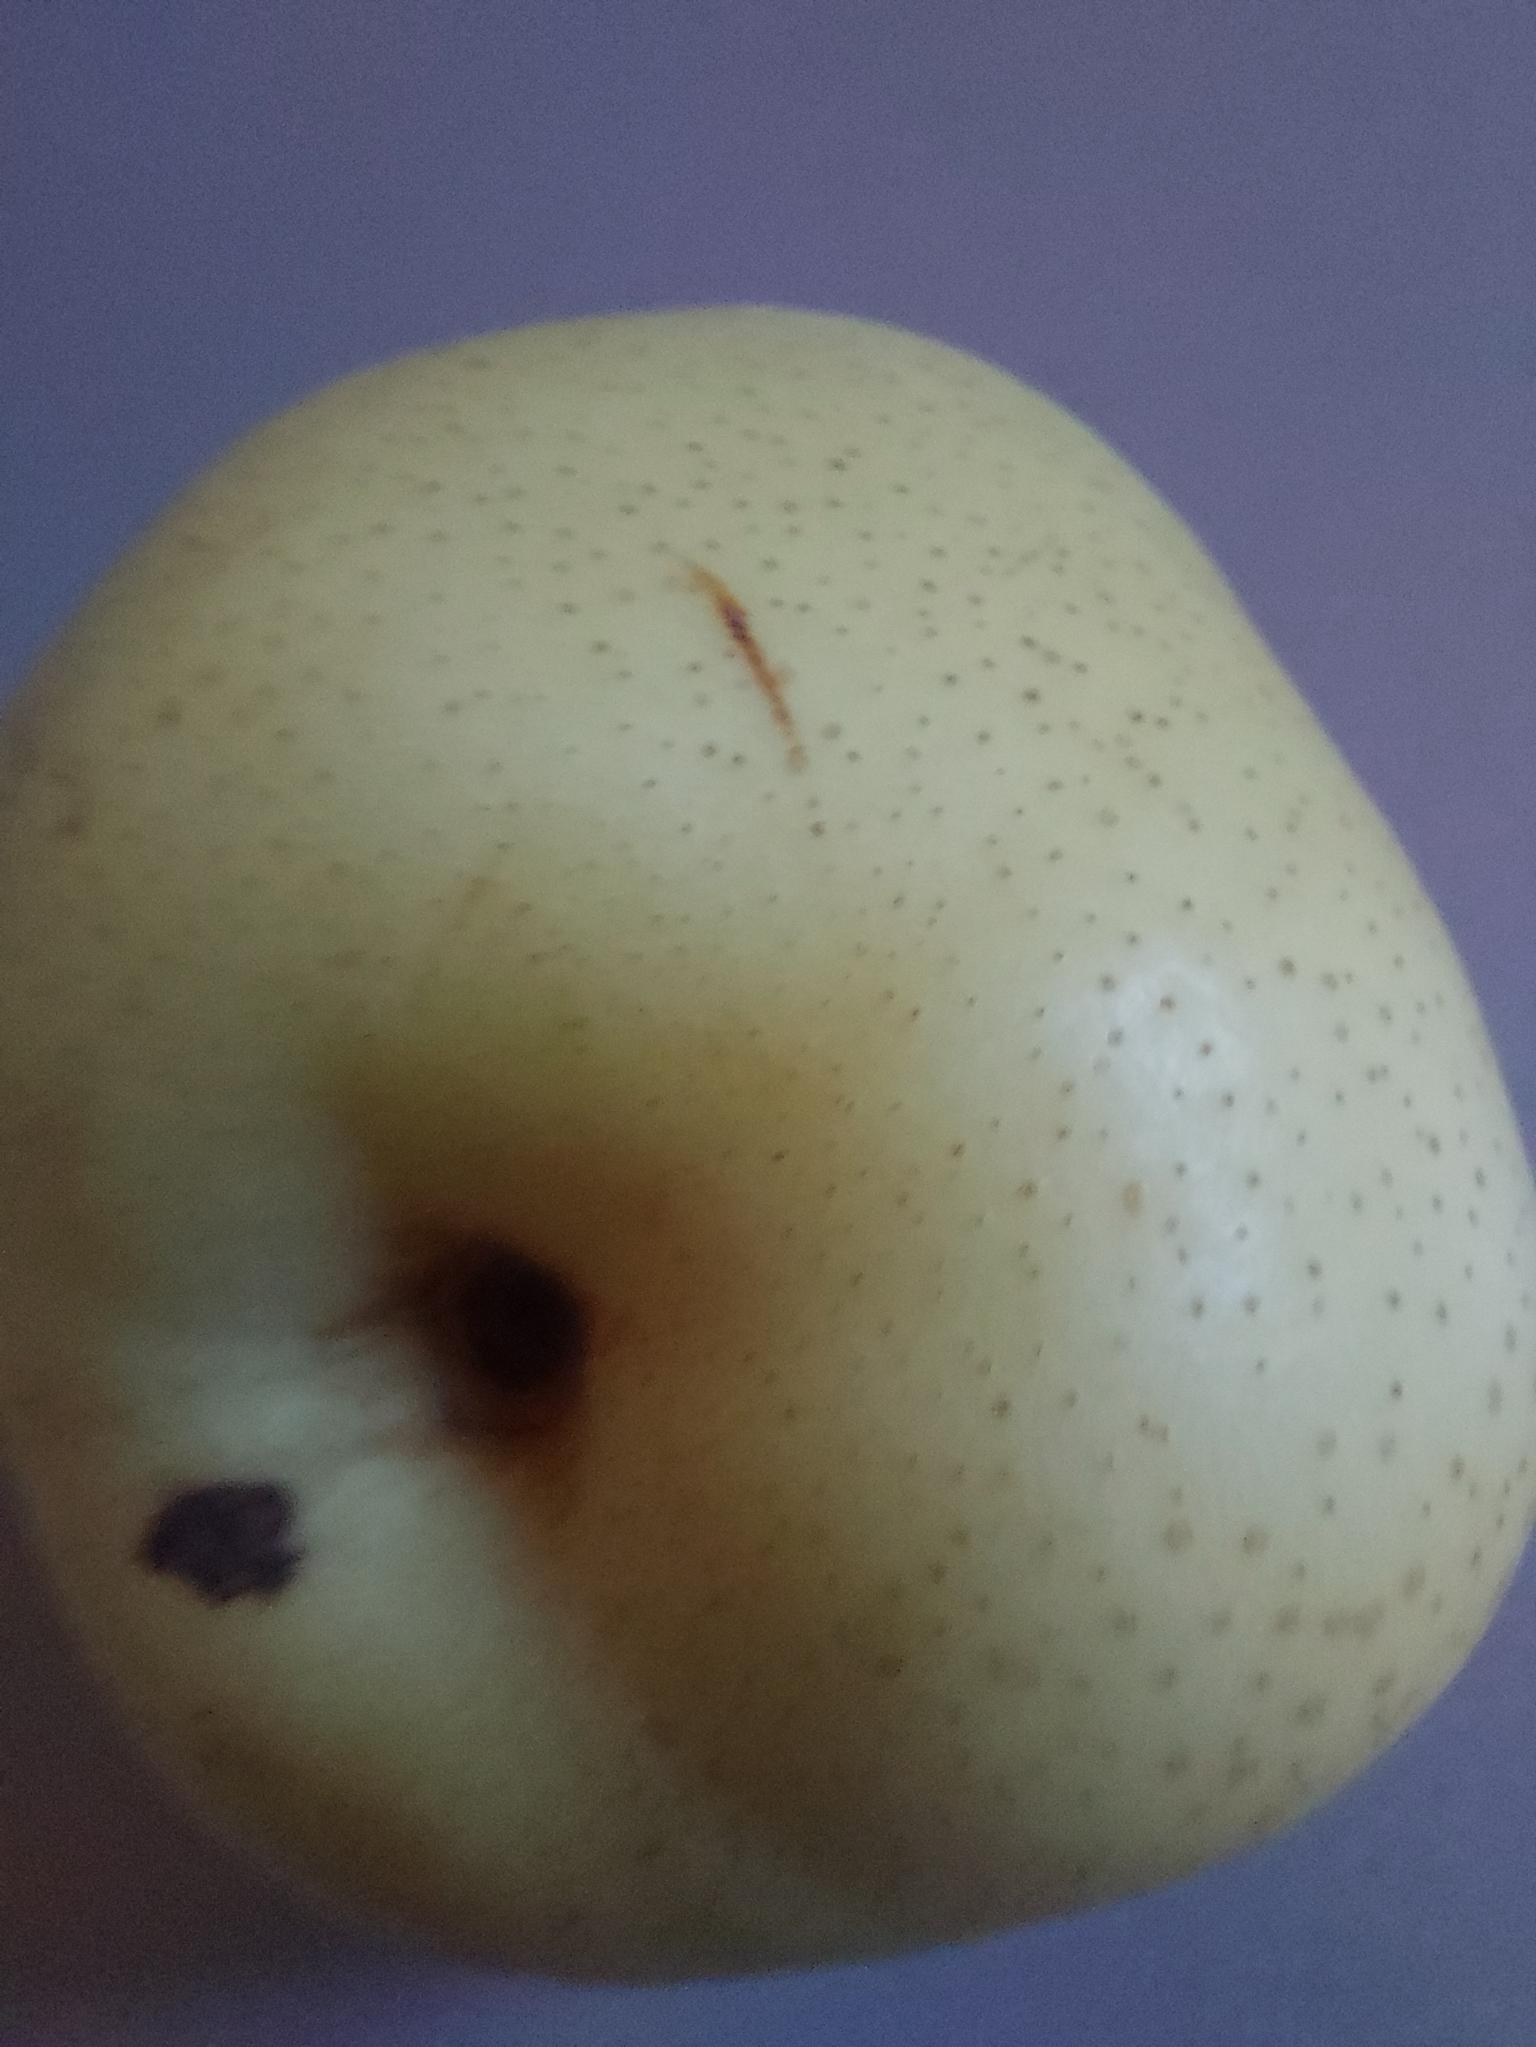Good Pear: (0, 244, 1536, 1995)
